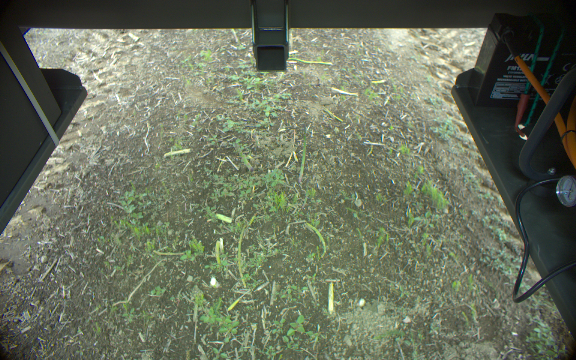aspa: (295, 124, 312, 188), (230, 142, 254, 175), (248, 128, 263, 148)
